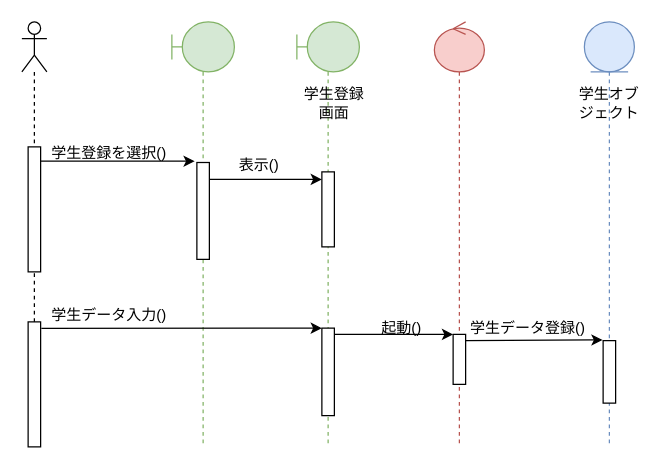
This 669x469 diagram has some shape labels left out. Each missing label, with the box of its shape:
メニュー画面: (171, 21, 234, 447)
学生情 報登録: (433, 21, 484, 447)
